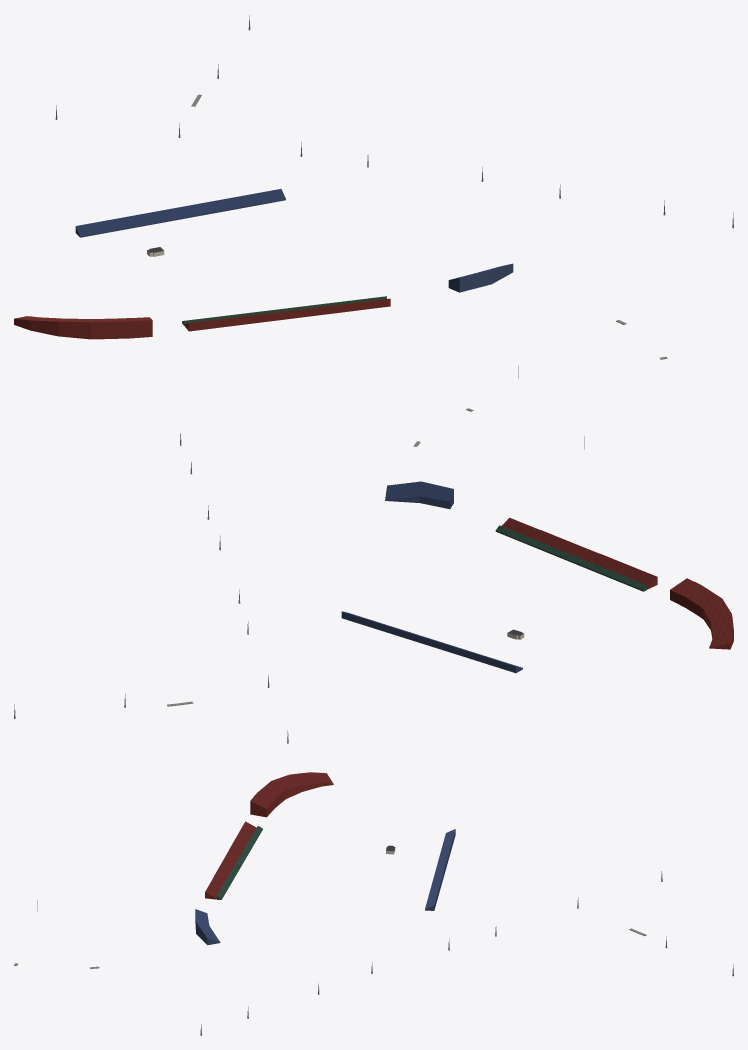
Rendered from scenery.glb.
3 renders of one model, top to bottom at view 1: azimuth 30°, elevation 25°; view 2: azimuth 150°, elevation 25°; view 3: azimuth 270°, elevation 25°, orthographic. The views are drawn at different scales.
Visible parts, largest first — view 1: chunk_14_15, chunk_15_15, chunk_14_16, chunk_15_16; view 2: chunk_14_16, chunk_14_15, chunk_15_15, chunk_15_16; view 3: chunk_14_15, chunk_14_16, chunk_15_15, chunk_15_16.
Boxes of the visible parts, box(x1,y1,x2,y2) form: chunk_14_15: box(14, 247, 164, 339); chunk_15_15: box(75, 189, 285, 237); chunk_14_16: box(182, 296, 390, 331); chunk_15_16: box(448, 263, 513, 292); chunk_14_16: box(495, 517, 657, 591); chunk_14_15: box(507, 578, 733, 649); chunk_15_15: box(341, 611, 522, 673); chunk_15_16: box(385, 481, 453, 509); chunk_14_15: box(250, 772, 395, 854); chunk_14_16: box(205, 821, 262, 899); chunk_15_15: box(425, 829, 455, 910); chunk_15_16: box(195, 909, 220, 945).
Bounding box in the file's own units: 1238 × 45.51 × 1477.
